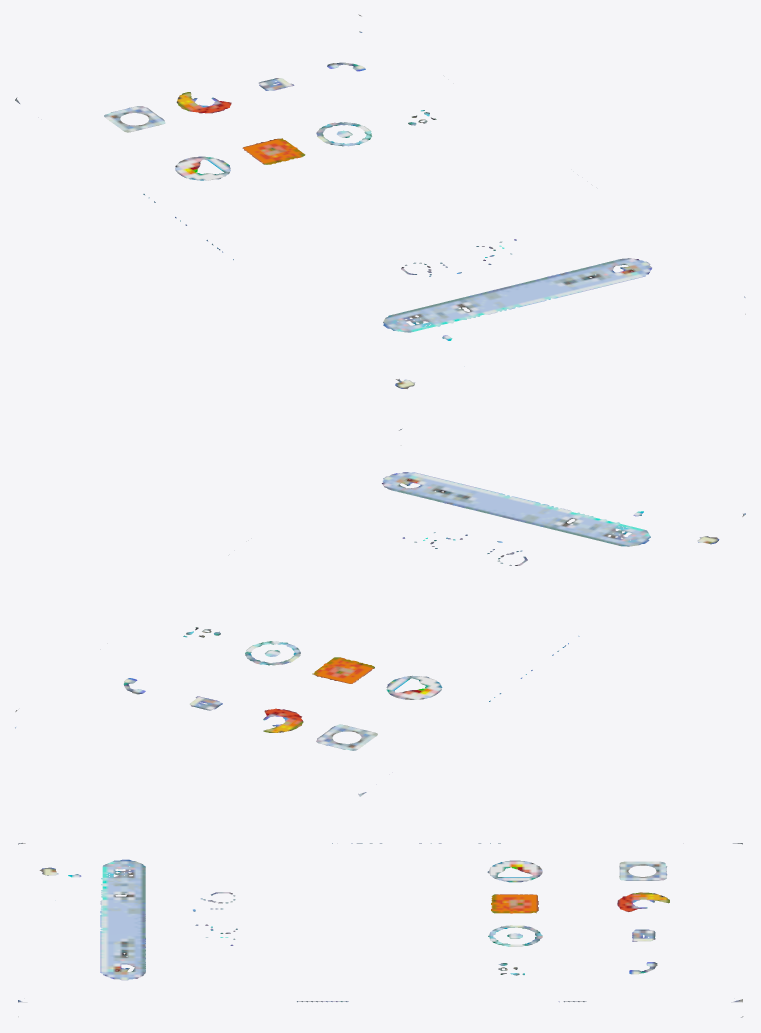
File: Smartphone.fbx
3 renders of one model, top to bottom at view 1: azimuth 30°, elevation 25°; view 2: azimuth 150°, elevation 25°; view 3: azimuth 270°, elevation 25°, orthographic. The views are drawn at different scales.
Visible parts, largest first — view 1: Smartphone1; view 2: Smartphone1; view 3: Smartphone1.
Part boxes in pixels (box(x1,y1,x2,y2)): Smartphone1: box(15, 14, 745, 388); Smartphone1: box(15, 429, 745, 796); Smartphone1: box(18, 843, 743, 1017).
Size of the model in its own units: 1.17 by 0.0733 by 2.28.
Materials: 1 (1 with a texture image).
